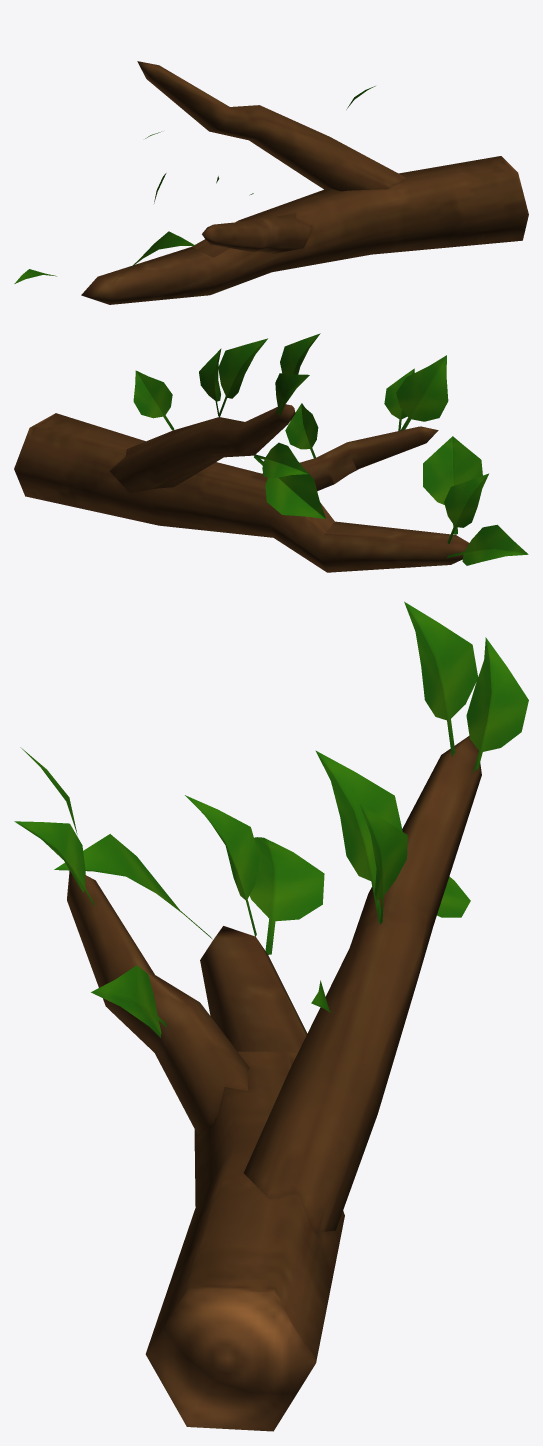
File: TortoiseRescue_Obstacles_Branch_01.glb
The picture shows the model from 3 angles, top to bottom: view 1: azimuth 30°, elevation 25°; view 2: azimuth 150°, elevation 25°; view 3: azimuth 270°, elevation 25°; orthographic projection. The views are drawn at different scales.
Parts seen in each view (by area): view 1: TortoiseRescue_Obstacles_Branch_01; view 2: TortoiseRescue_Obstacles_Branch_01; view 3: TortoiseRescue_Obstacles_Branch_01.
Boxes of the visible parts, bbox=[...] form: TortoiseRescue_Obstacles_Branch_01: bbox=[14, 61, 528, 304]; TortoiseRescue_Obstacles_Branch_01: bbox=[14, 333, 528, 572]; TortoiseRescue_Obstacles_Branch_01: bbox=[14, 601, 528, 1431].
Size of the model in its own units: 3.36 by 1.72 by 1.54.
1 material, 1 textured.
